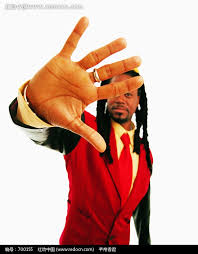palm: (22, 15, 146, 153)
